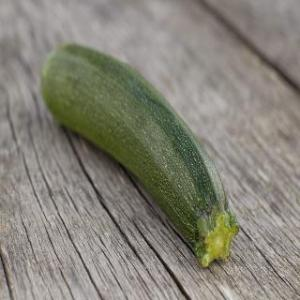zucchini: (38, 34, 238, 266)
